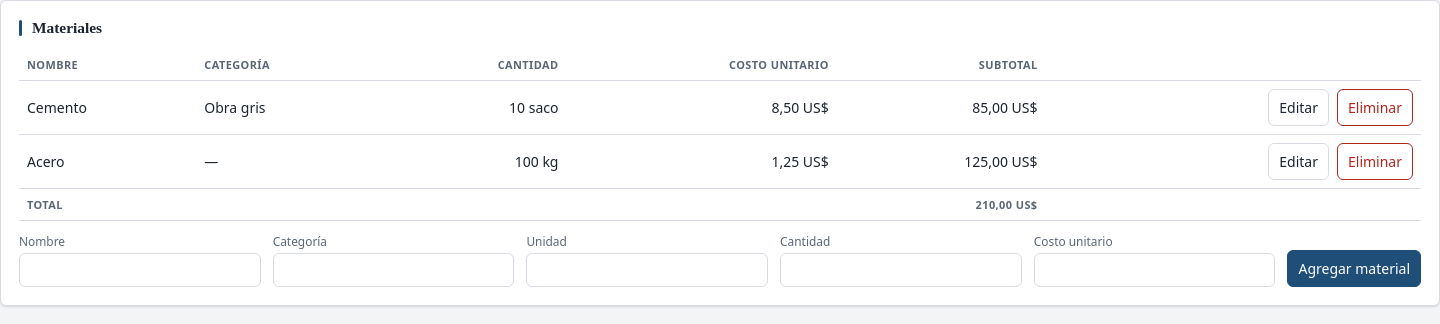
it: MaterialsPanel › cancels the edit without saving
Click the button with aria-label "Editar material Acero". click: (1299, 162)
box: [1268,143,1329,180]
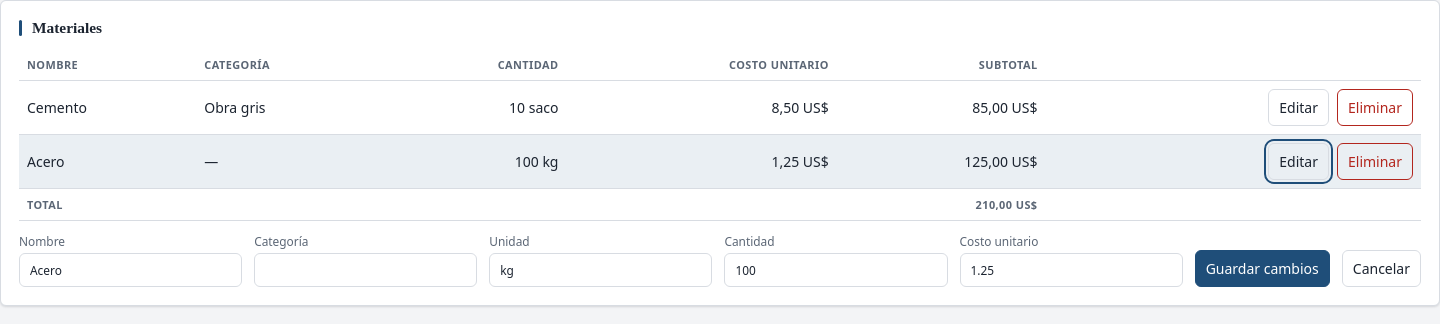
Click the button "Cancelar". click: (1381, 268)
box: [1342,250,1421,287]
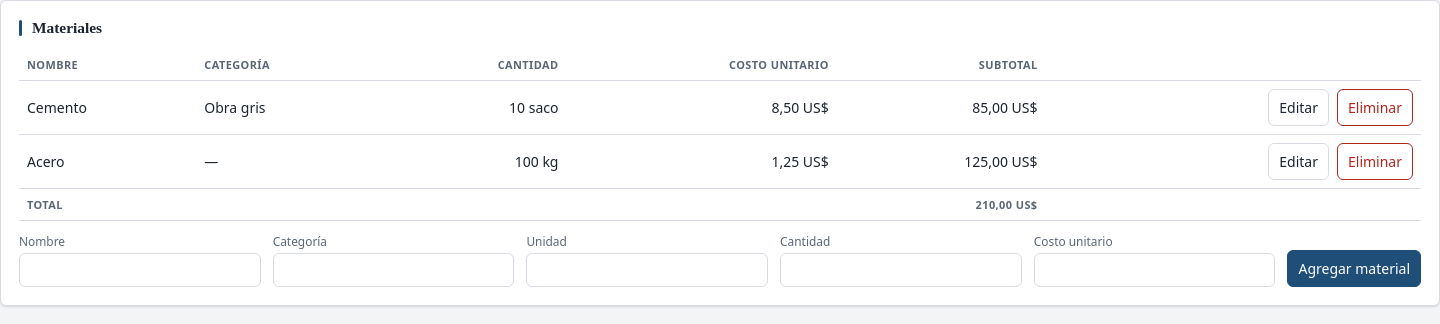
Check: the field labelled "Nombre" is empty, box [19,253,261,287]
Check: the button "Agregar material" is shown, box [1287,250,1421,287]
